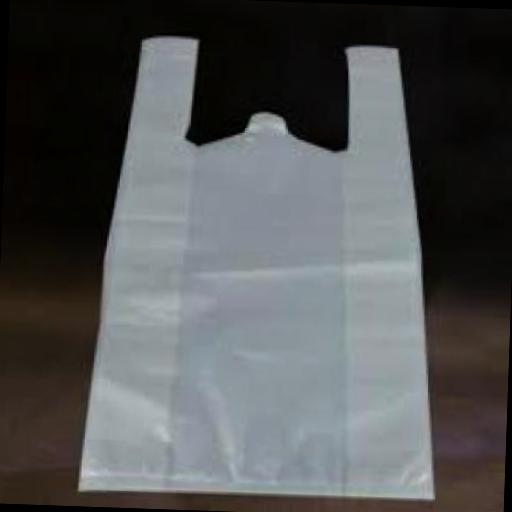plastic: (80, 31, 454, 502)
